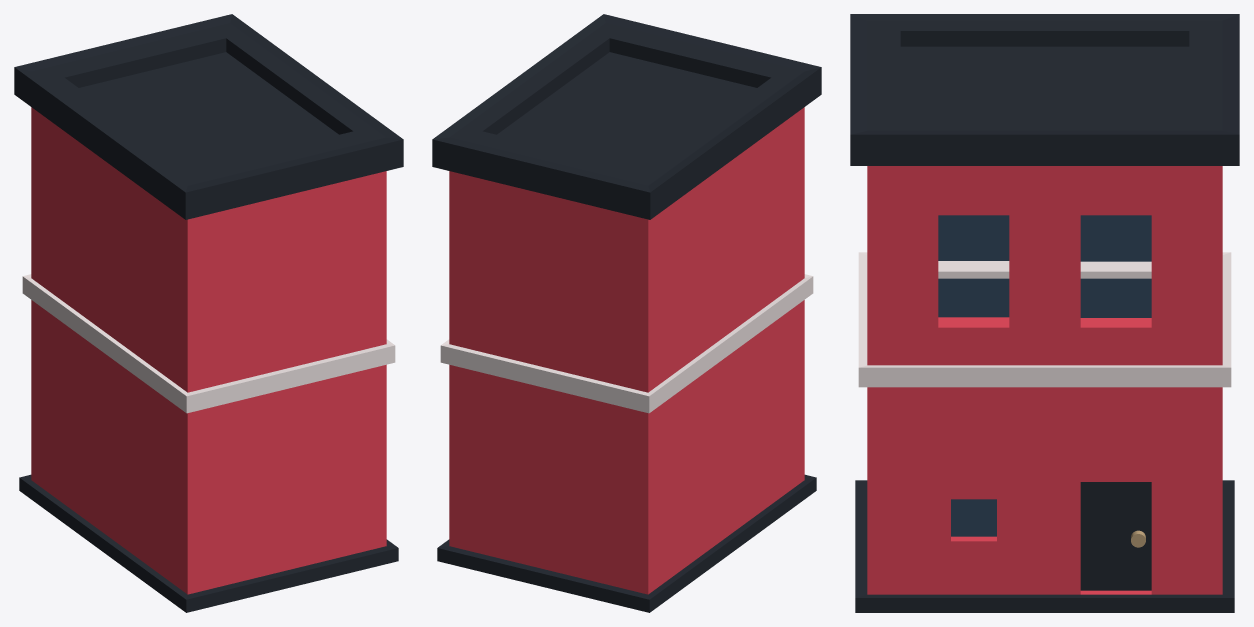
Rendered from house4.fbx.
3 renders of one model, left to right at view 1: azimuth 30°, elevation 25°; view 2: azimuth 150°, elevation 25°; view 3: azimuth 270°, elevation 25°, orthographic. The views are drawn at different scales.
Parts seen in each view (by area): view 1: Cube; view 2: Cube; view 3: Cube.
Boxes of the visible parts, x1,y1,x2,y2 form: Cube: (14, 14, 403, 612); Cube: (432, 14, 821, 612); Cube: (850, 14, 1239, 612).
Size of the model in its own units: 422 by 783 by 575.
